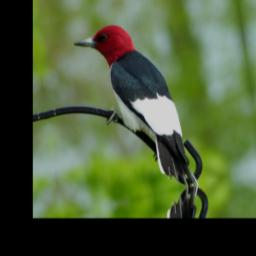Woodpecker: (70, 8, 201, 209)
